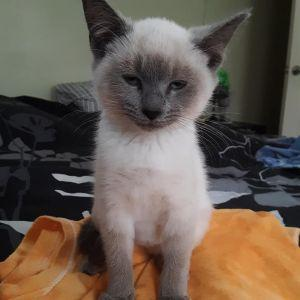siamese: (78, 1, 248, 170)
